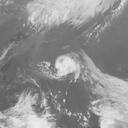cyclone: (53, 54, 81, 78)
